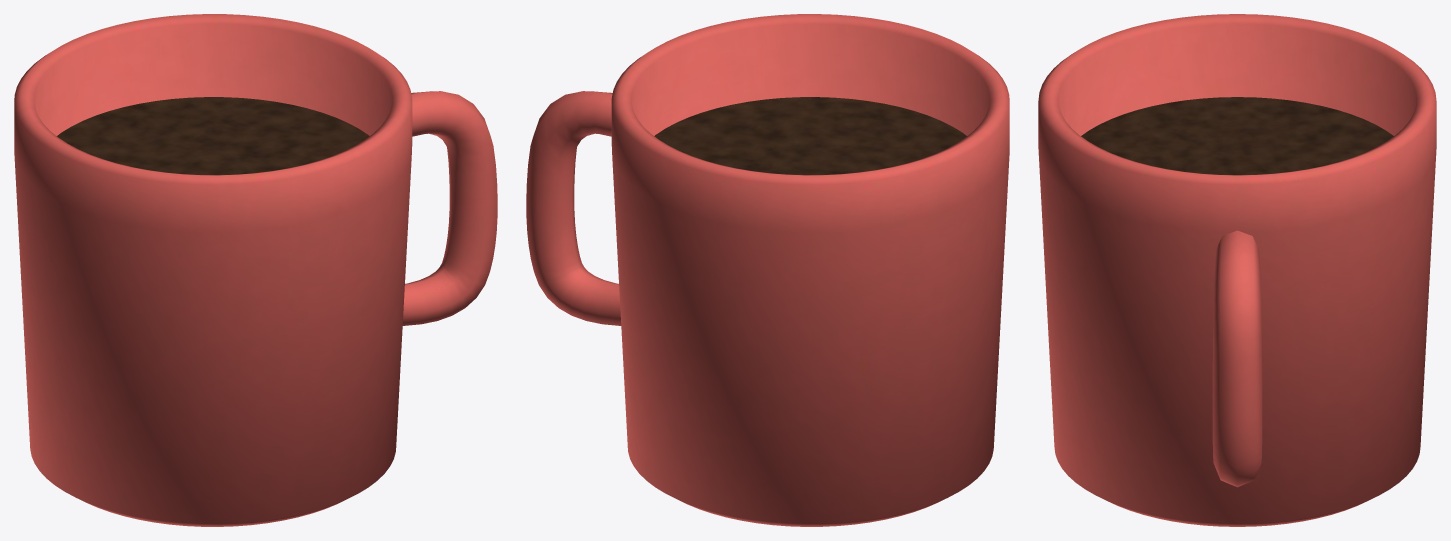
File: mug_red.glb
The picture shows the model from 3 angles, left to right: view 1: azimuth 30°, elevation 25°; view 2: azimuth 150°, elevation 25°; view 3: azimuth 270°, elevation 25°; orthographic projection.
Visible parts, largest first — view 1: mug_red; view 2: mug_red; view 3: mug_red.
Boxes of the visible parts, x1,y1,x2,y2 form: mug_red: [14, 14, 497, 526]; mug_red: [526, 14, 1009, 526]; mug_red: [1038, 14, 1436, 526].
Bounding box in the file's own units: 7.91 × 6 × 6.
1 material, 1 textured.
